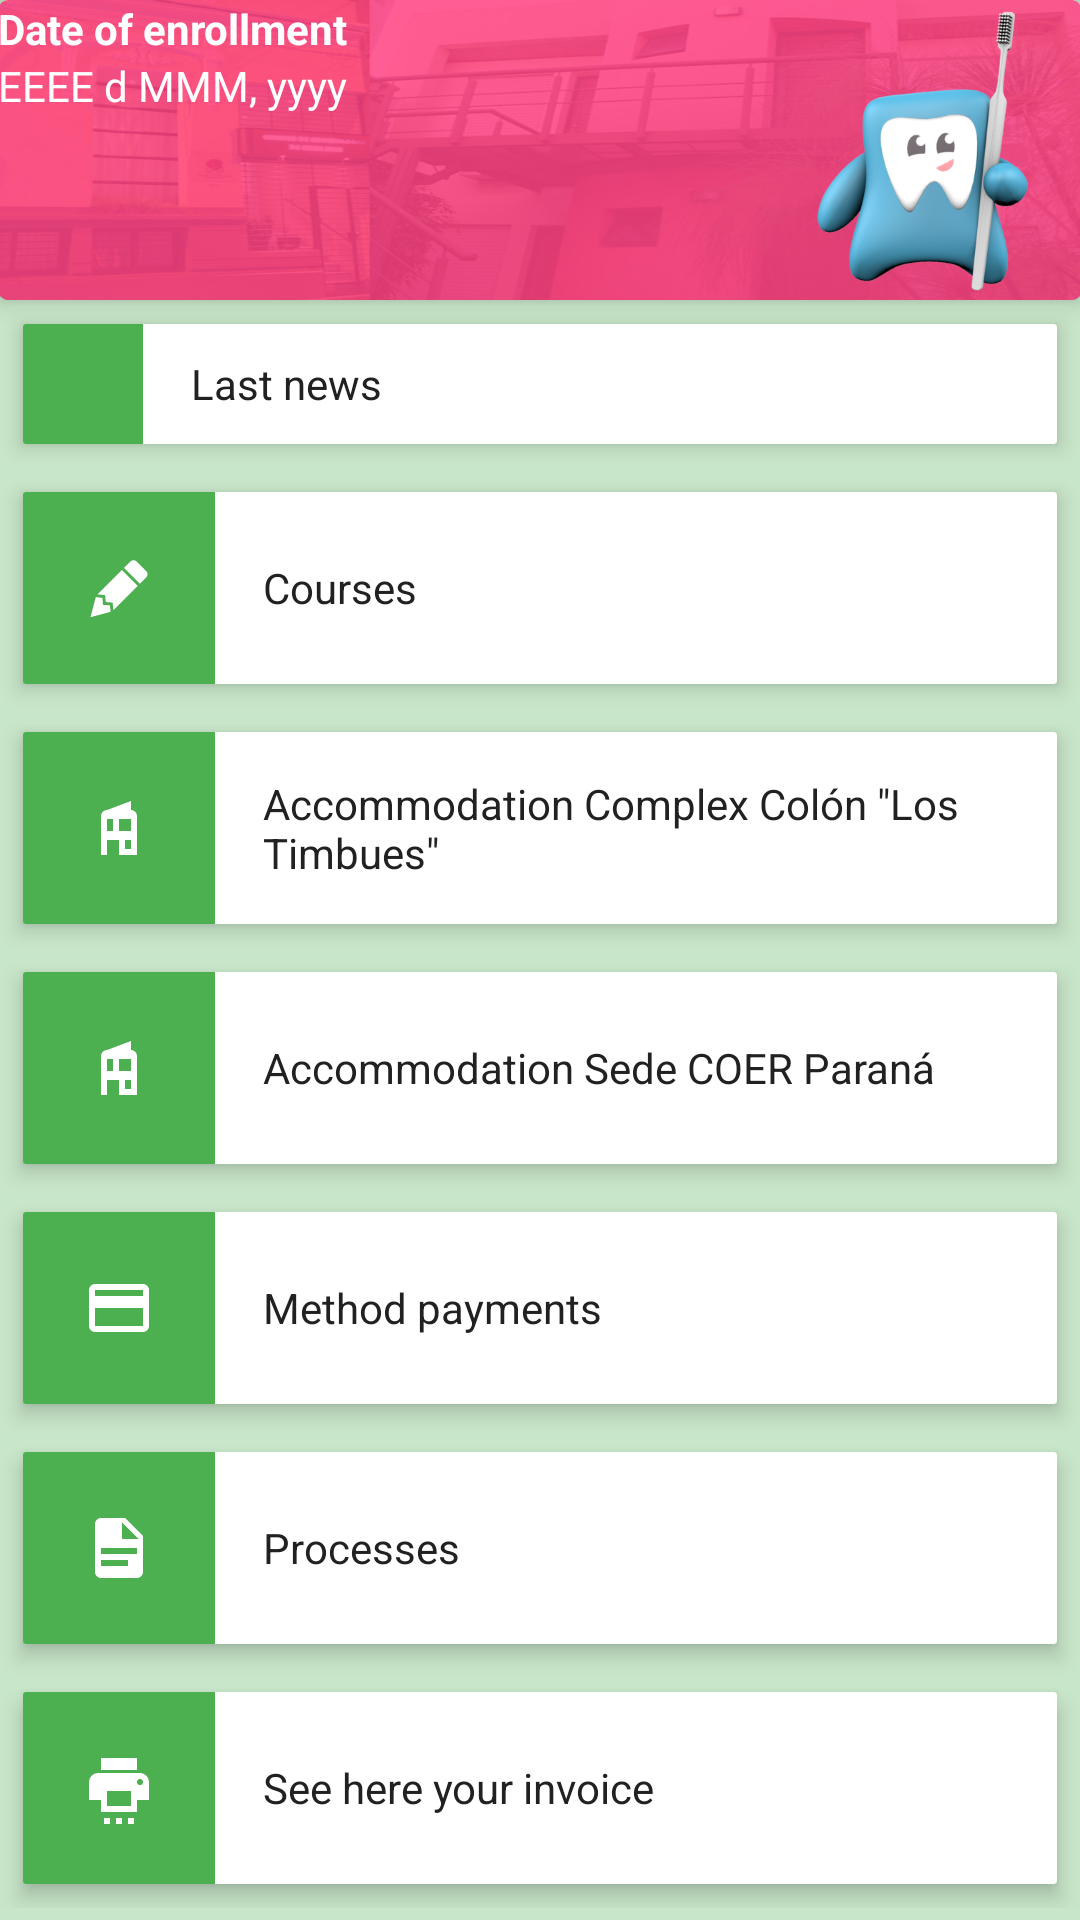

Named icons in this screenshot (1080w x 1920h) and their centers, (x,y):
credit card: (119,1308)
doc: (119,1548)
home modern: (119,828), (119,1068)
lead pencil: (119,588)
printer settings: (119,1788)
tooth: (921,145)
